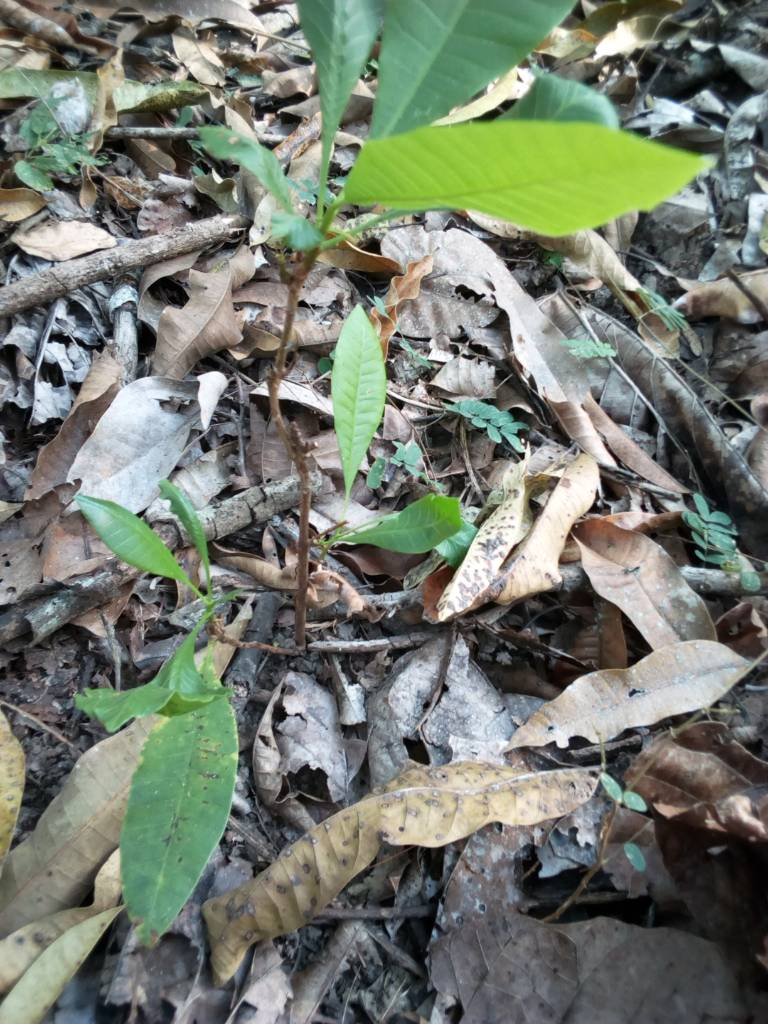Anthracnose: (113, 677, 240, 942)
